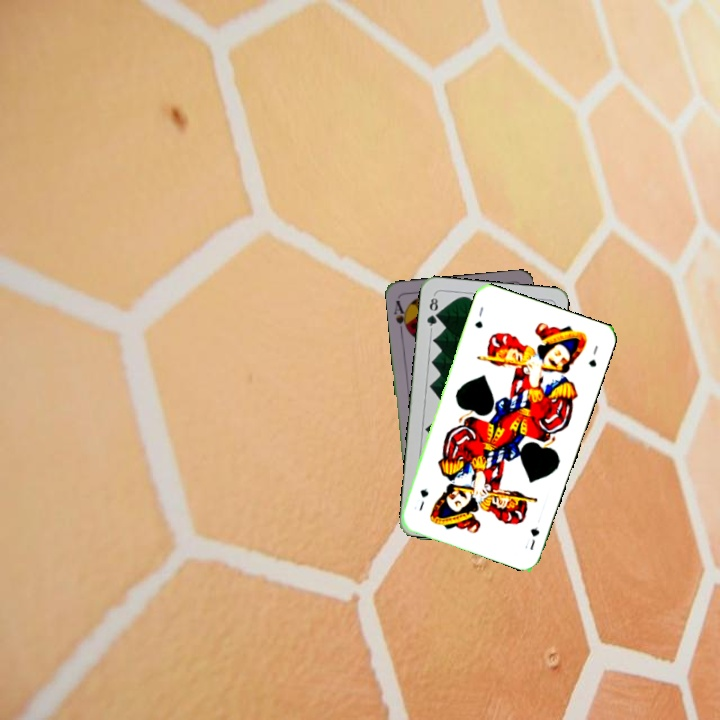G8: (423, 291, 441, 332)
GU: (521, 523, 542, 553), (471, 302, 486, 331)
SA: (390, 296, 412, 336)
